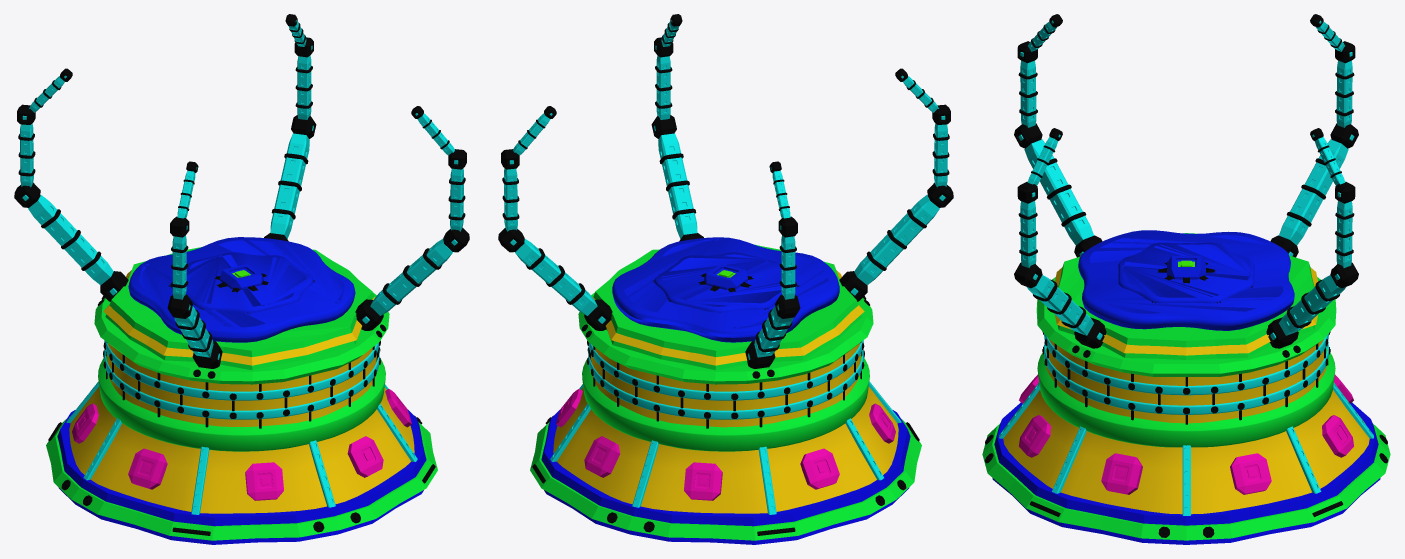
The model's file is Arteаfuckt.fbx.
3 views of the same model, side by side, from view 1: azimuth 30°, elevation 25°; view 2: azimuth 150°, elevation 25°; view 3: azimuth 270°, elevation 25° (orthographic). The views are drawn at different scales.
Visible parts, largest first — view 1: Cylinder.010, Cube.010, Cylinder.008, Circle, Cylinder, Cylinder.006, Cylinder.005, Cylinder.009, Cube.004, Cylinder.004, Circle.001, Cube.025 (+11 smaller); view 2: Cylinder.010, Cube.010, Cylinder.008, Circle, Cylinder, Cylinder.006, Cylinder.005, Cylinder.009, Cube.004, Cylinder.004, Circle.001, Cube.025 (+10 smaller); view 3: Cylinder.010, Cylinder.008, Cube.010, Circle, Cylinder, Cylinder.006, Cylinder.009, Cylinder.005, Cube.004, Cylinder.004, Cube.028, Circle.001 (+11 smaller).
Part boxes in pixels (x1,y1,x2,y2): Cylinder.010: [69, 343, 414, 513]; Cube.010: [14, 115, 469, 368]; Cylinder.008: [128, 237, 355, 342]; Circle: [98, 354, 385, 451]; Cylinder: [57, 409, 426, 544]; Cylinder.006: [46, 419, 437, 540]; Cylinder.005: [105, 247, 374, 370]; Cylinder.009: [170, 252, 313, 312]; Cube.004: [17, 37, 466, 299]; Cylinder.004: [94, 292, 389, 381]; Circle.001: [104, 350, 379, 419]; Cube.025: [245, 436, 383, 500]; Cylinder.010: [553, 343, 898, 513]; Cube.010: [498, 115, 953, 368]; Cylinder.008: [612, 237, 839, 342]; Circle: [582, 355, 869, 451]; Cylinder: [541, 409, 910, 544]; Cylinder.006: [530, 419, 921, 540]; Cylinder.005: [593, 244, 862, 370]; Cylinder.009: [654, 252, 797, 312]; Cube.004: [501, 37, 950, 299]; Cylinder.004: [578, 292, 873, 381]; Circle.001: [588, 350, 863, 419]; Cube.025: [584, 436, 722, 500]; Cylinder.010: [1003, 339, 1369, 514]; Cylinder.008: [1078, 230, 1294, 330]; Cube.010: [1014, 123, 1358, 348]; Circle: [1037, 347, 1335, 447]; Cylinder: [992, 402, 1380, 544]; Cylinder.006: [982, 424, 1390, 540]; Cylinder.009: [1118, 242, 1254, 303]; Cylinder.005: [1057, 233, 1315, 359]; Cube.004: [1017, 41, 1355, 267]; Cylinder.004: [1037, 277, 1335, 373]; Cube.028: [1101, 453, 1271, 494]; Circle.001: [1044, 341, 1328, 414].
Size of the model in its own units: 475 by 499 by 475.
